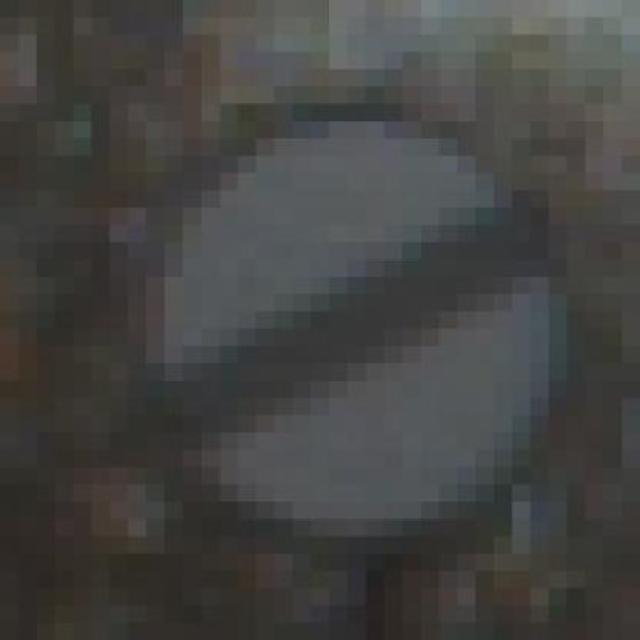End of all speed and passing limits: (110, 86, 604, 537)
